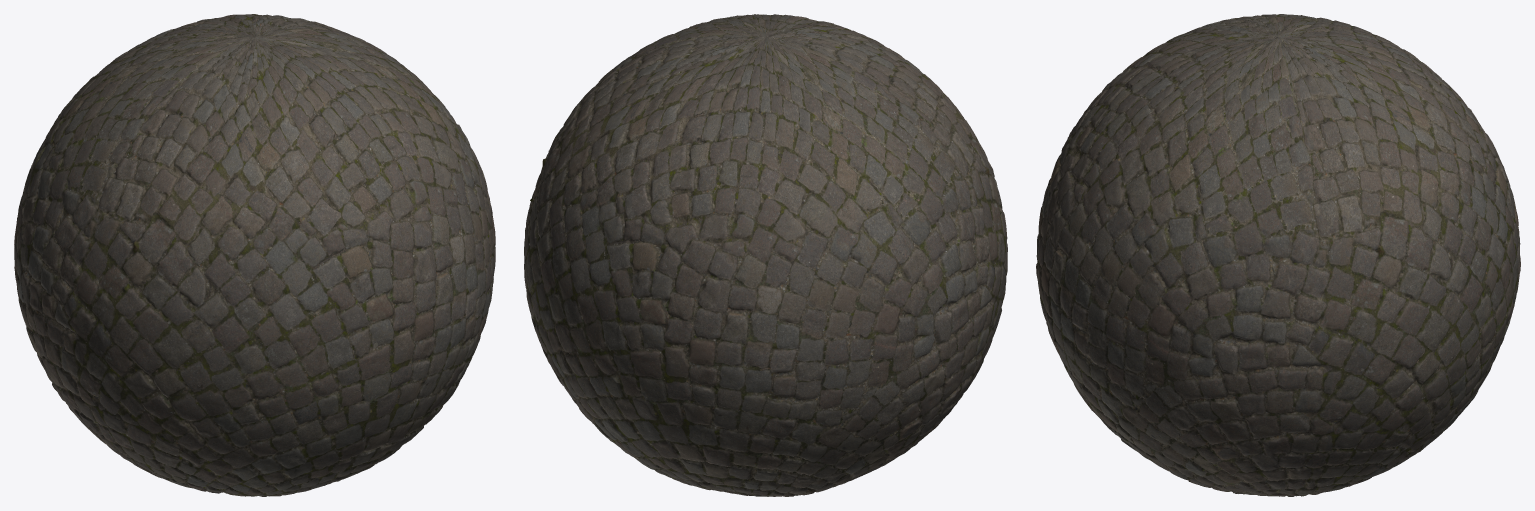
Rendered from patterned_cobblestone_4k.gltf.
3 views of the same model, side by side, from view 1: azimuth 30°, elevation 25°; view 2: azimuth 150°, elevation 25°; view 3: azimuth 270°, elevation 25° (orthographic).
Visible parts, largest first — view 1: sphere_gltf; view 2: sphere_gltf; view 3: sphere_gltf.
Part boxes in pixels (x1=…): sphere_gltf: x1=14, y1=14, x2=495, y2=496; sphere_gltf: x1=524, y1=14, x2=1007, y2=496; sphere_gltf: x1=1036, y1=14, x2=1520, y2=496.
Bounding box in the file's own units: 2.55 × 2.54 × 2.55.
1 material, 1 textured.
